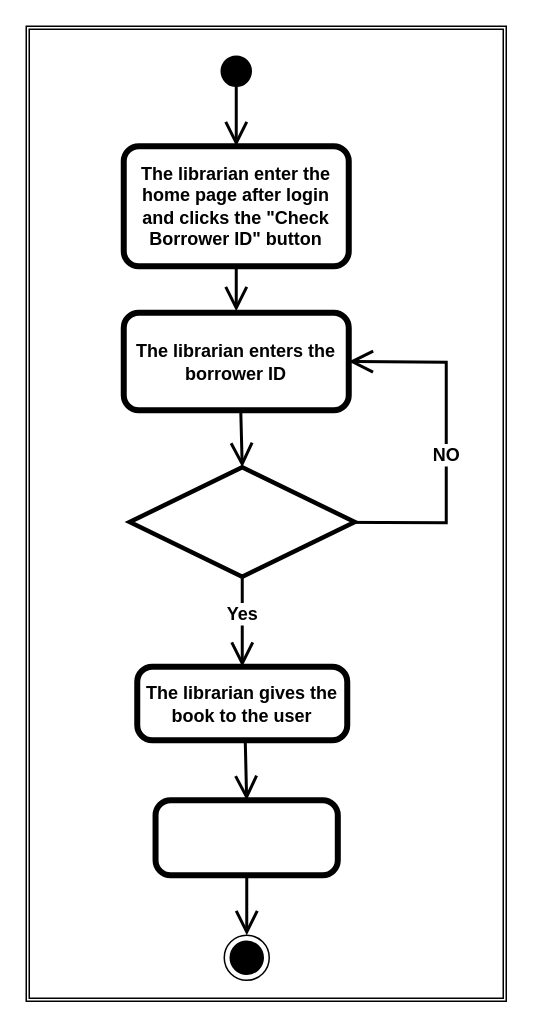
The diagram is 533 pixels wide and 1028 high, and some of its shapes have lost their labels. The shapes that lost their labels are listed below. From the top down, each one's box as (x1, y1, x2, y2) in pixels, then its label:
(127, 464, 356, 578): Valid borrower ID
(154, 799, 338, 875): The librarian removes the book from the system
